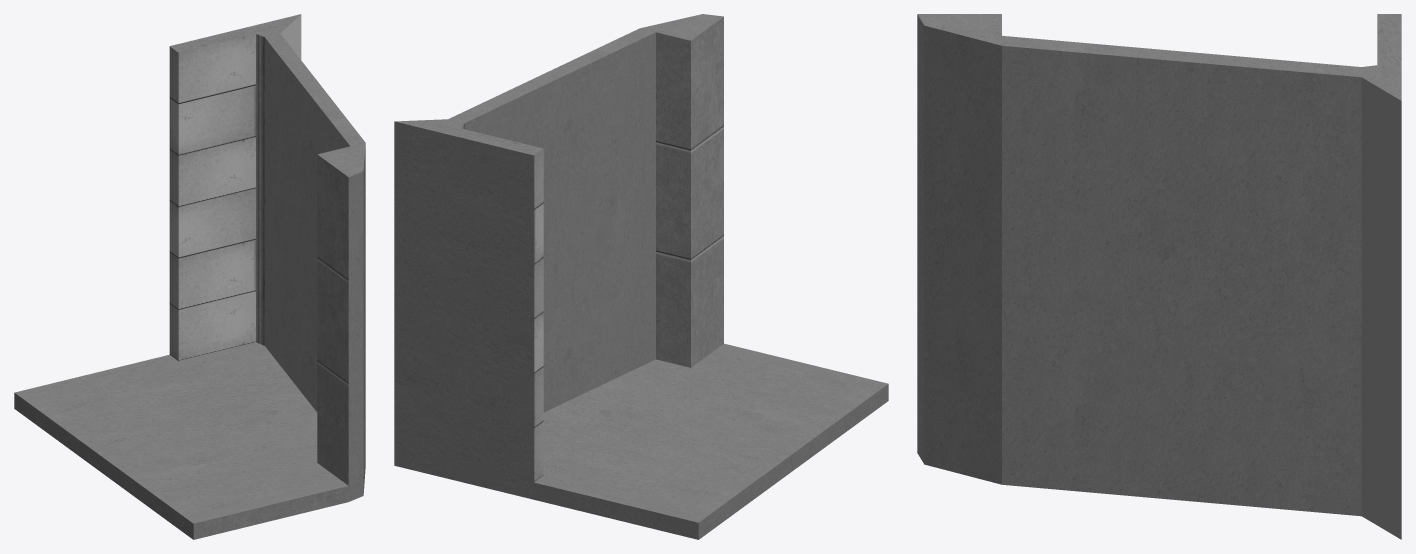
Rendered from Side_room_corner_bottom_L.fbx.
3 renders of one model, left to right at view 1: azimuth 30°, elevation 25°; view 2: azimuth 150°, elevation 25°; view 3: azimuth 270°, elevation 25°, orthographic. The views are drawn at different scales.
Parts seen in each view (by area): view 1: Side_room_corner_bottom_L; view 2: Side_room_corner_bottom_L; view 3: Side_room_corner_bottom_L.
Part boxes in pixels (bbox=[...]): Side_room_corner_bottom_L: bbox=[14, 14, 365, 539]; Side_room_corner_bottom_L: bbox=[394, 14, 888, 539]; Side_room_corner_bottom_L: bbox=[917, 14, 1401, 539].
Bounding box in the file's own units: 3.7 × 4 × 4.
